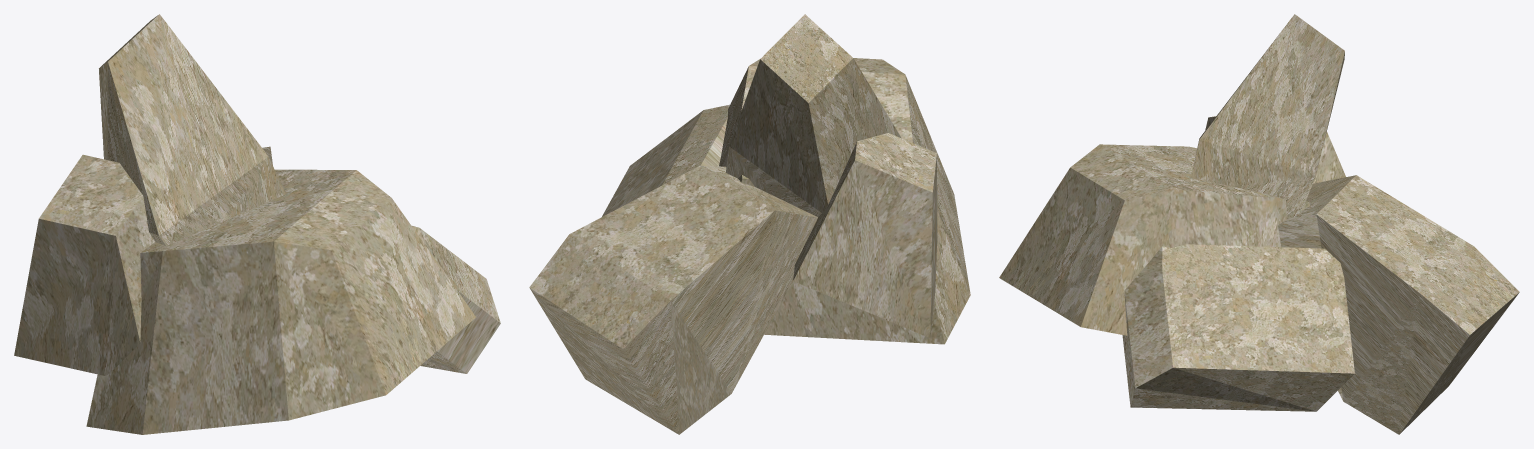
The model's file is rock_formation_l3.fbx.
3 renders of one model, left to right at view 1: azimuth 30°, elevation 25°; view 2: azimuth 150°, elevation 25°; view 3: azimuth 270°, elevation 25°, orthographic. The views are drawn at different scales.
Visible parts, largest first — view 1: mesh_node; view 2: mesh_node; view 3: mesh_node.
Part boxes in pixels (x1,y1,x2,y2): mesh_node: [14, 14, 500, 434]; mesh_node: [529, 14, 970, 434]; mesh_node: [999, 14, 1519, 434].
Size of the model in its own units: 8.98 by 8.63 by 11.59.
